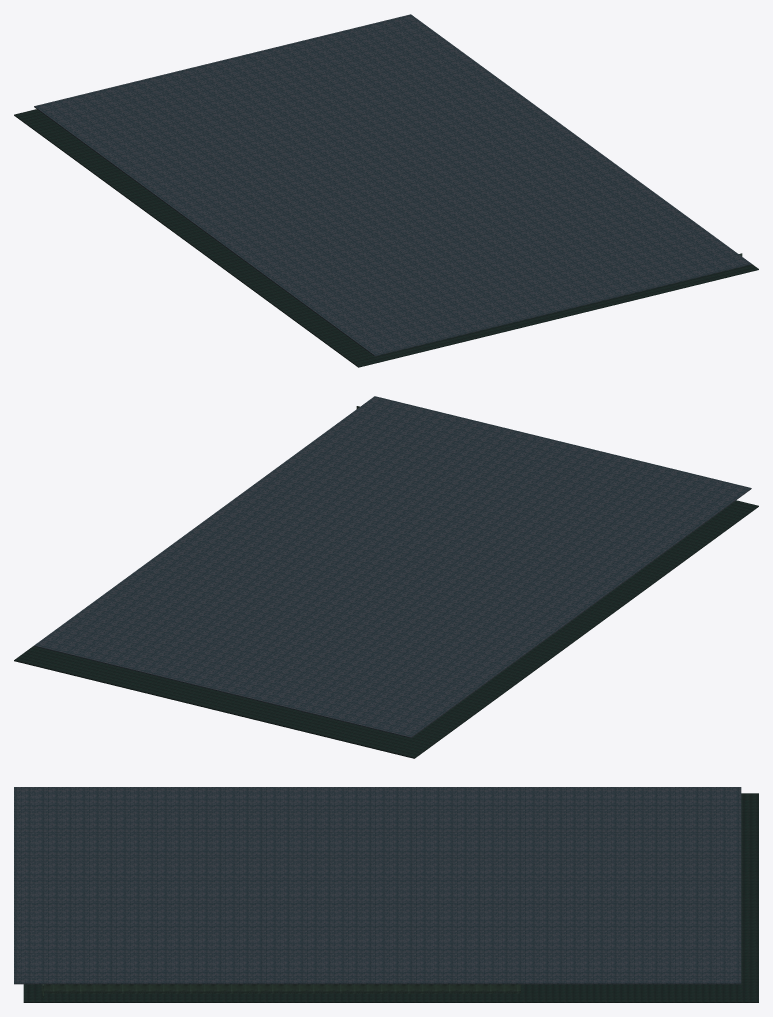
File: SM_Maze.fbx
3 renders of one model, top to bottom at view 1: azimuth 30°, elevation 25°; view 2: azimuth 150°, elevation 25°; view 3: azimuth 270°, elevation 25°, orthographic. The views are drawn at different scales.
Parts seen in each view (by area): view 1: SM_Ceiling.001, SM_FloorTile.001; view 2: SM_Ceiling.001, SM_FloorTile.001; view 3: SM_Ceiling.001, SM_FloorTile.001.
Part boxes in pixels (x1,y1,x2,y2): SM_Ceiling.001: [34, 14, 751, 356]; SM_FloorTile.001: [14, 109, 758, 367]; SM_Ceiling.001: [34, 396, 751, 738]; SM_FloorTile.001: [14, 500, 758, 758]; SM_Ceiling.001: [14, 787, 741, 984]; SM_FloorTile.001: [23, 793, 758, 1002].
Size of the model in its own units: 7246 by 220 by 10935.
